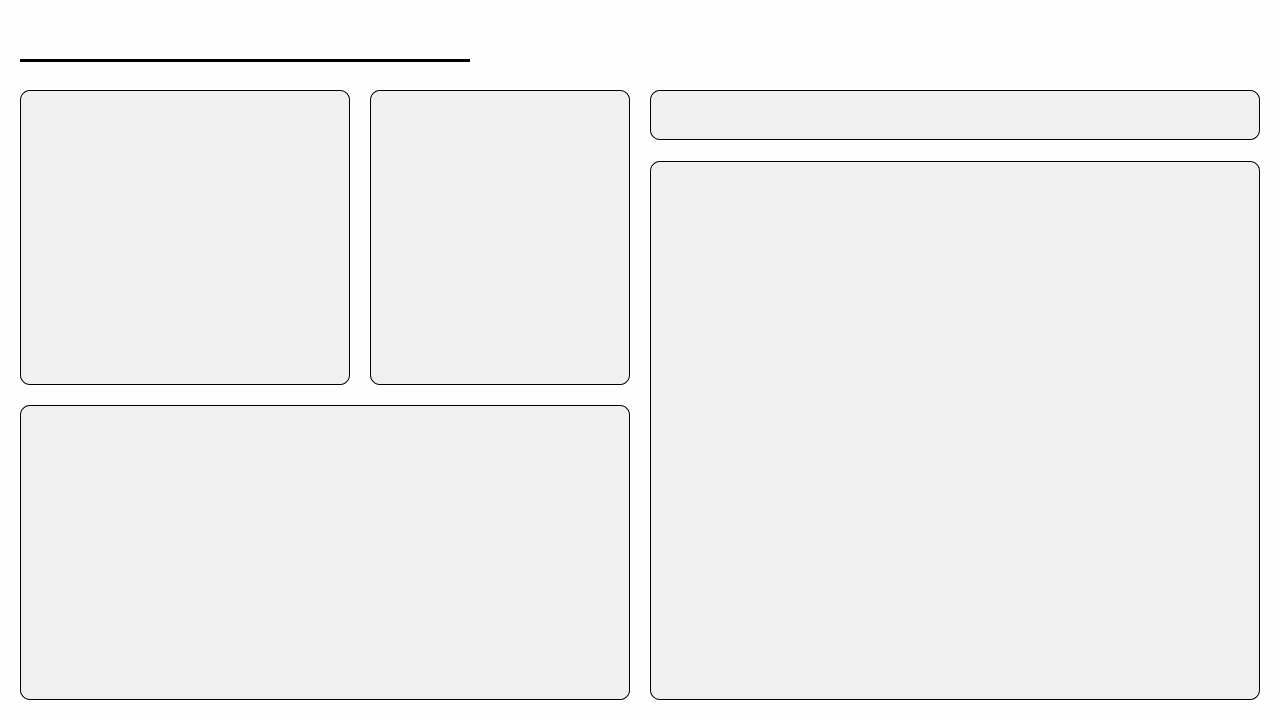

The page's visual inventory and layout, read from the dashboard file:
{"tool":"powerbi","page":{"name":"lucro","canvas":[1280,720],"ordinal":1},"visuals":[{"type":"actionButton","box":[1219.1,22.1,51.2,40.1],"z":0},{"type":"slicer","fields":{"Values":["Financials.Date.Variation.Date Hierarchy.Year"]},"box":[651.8,88.6,607.5,49.8],"z":1},{"type":"decompositionTreeVisual","fields":{"Analyze":["Sum(Financials.Profit)"],"ExplainBy":["Financials.Date.Variation.Date Hierarchy.Year","Financials.Country"]},"box":[651.8,160.5,607.5,531.4],"z":2},{"type":"waterfallChart","title":"Lucro por Trimestre","fields":{"Y":["Sum(Financials.Profit)"],"Category":["Financials.Date.Variation.Date Hierarchy.Quarter"]},"box":[23.5,405.4,603.3,290.6],"z":3},{"type":"treemap","title":"Lucro por Segmento","fields":{"Values":["Sum(Financials.Profit)"],"Group":["Financials.Segment"]},"box":[373.6,88.6,251.8,292],"z":4},{"type":"radarChart","title":"Lucro por Produto","fields":{"measure":["Sum(Financials.Profit)"],"category":["Financials.Product"]},"box":[22.1,88.6,326.6,292],"z":5},{"type":"textbox","box":[22.3,1.3,461.2,60.4],"z":6}]}

Visuals, with their boxes in screenshot pixels (x1, y1, x2, y2), scaled from the page's 1280x720 canvas onto the 1280x720 screenshot:
actionButton: 1219 22 1270 62
slicer - Financials.Date.Variation.Date Hierarchy.Year: 652 89 1259 138
decompositionTreeVisual - Sum(Financials.Profit) x Financials.Date.Variation.Date Hierarchy.Year: 652 160 1259 692
"Lucro por Trimestre" waterfallChart: 24 405 627 696
"Lucro por Segmento" treemap: 374 89 625 381
"Lucro por Produto" radarChart: 22 89 349 381
textbox: 22 1 484 62
